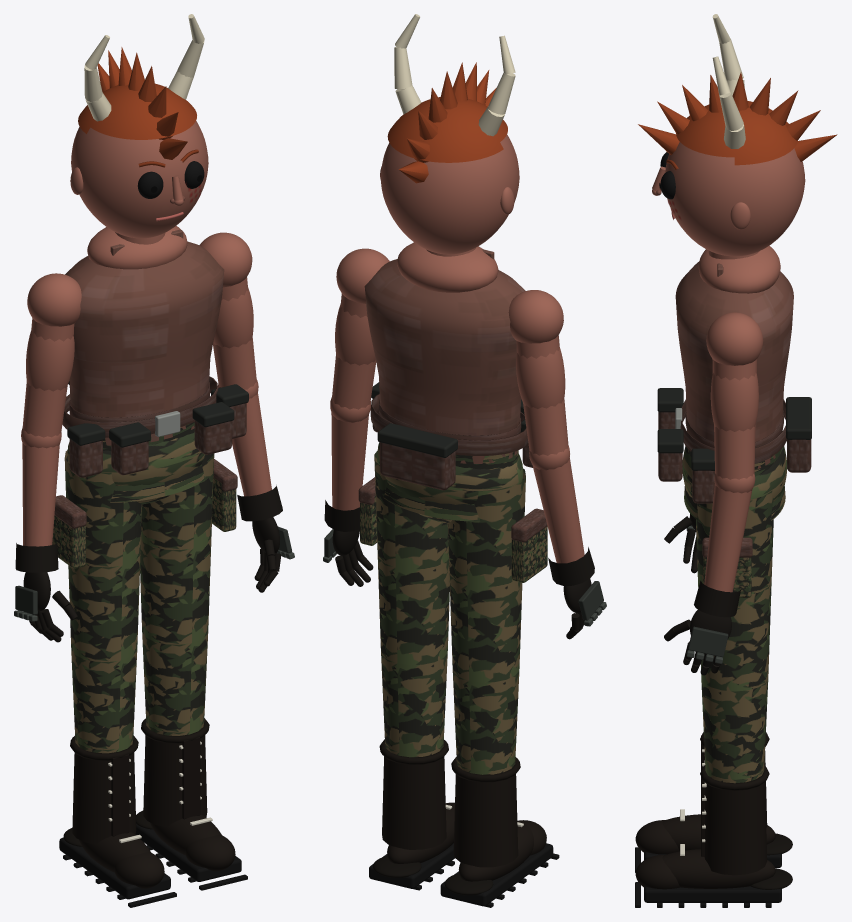
File: 03-mutant-cornu.glb
3 views of the same model, side by side, from view 1: azimuth 30°, elevation 25°; view 2: azimuth 150°, elevation 25°; view 3: azimuth 270°, elevation 25° (orthographic).
Size of the model in its own units: 0.6344 by 1.92 by 0.4189.
24 materials, 5 textured.
